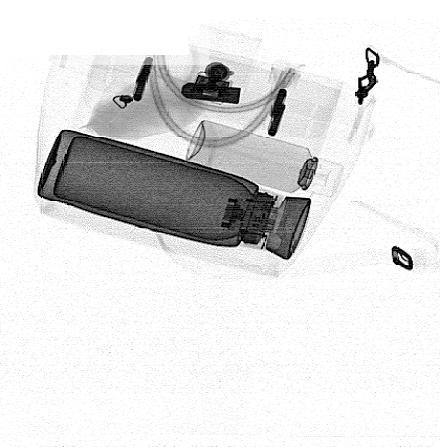Sprayer: (185, 120, 345, 197)
